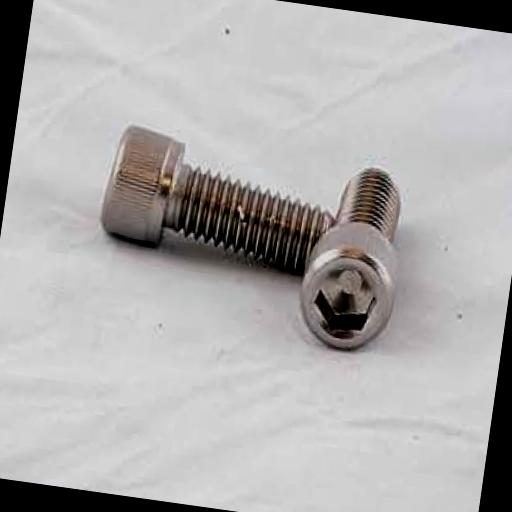Hex-Allen: (298, 219, 402, 360)
